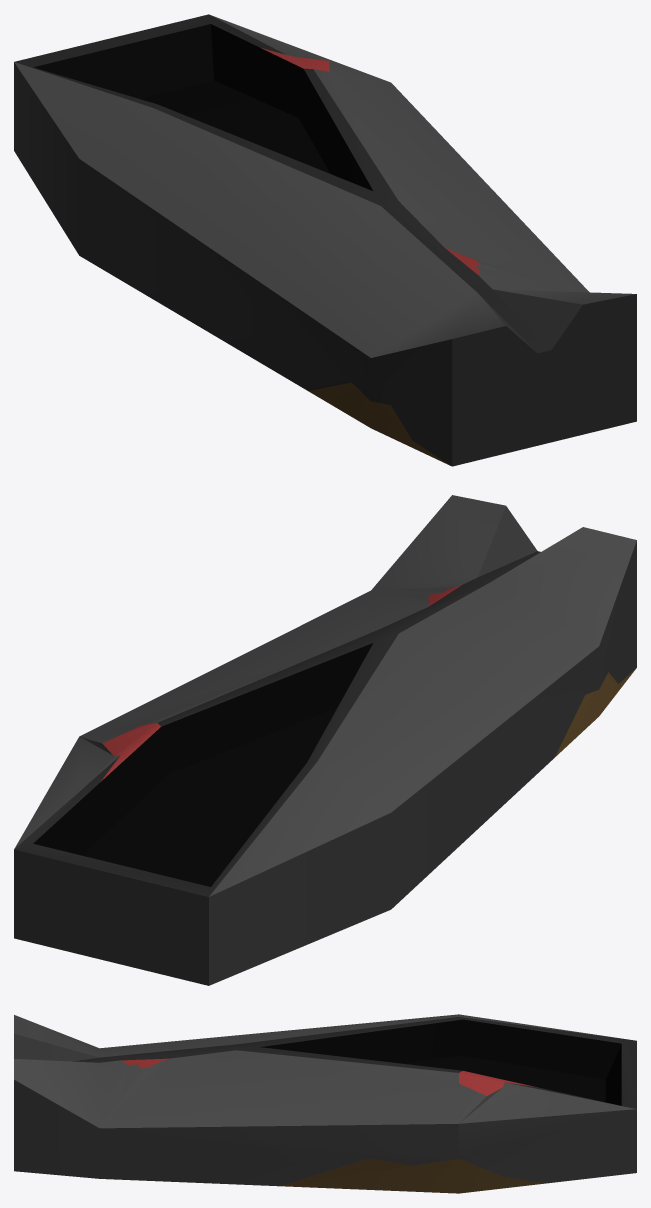
Rendered from SA_Prop_BodyBag_03.glb.
The picture shows the model from 3 angles, top to bottom: view 1: azimuth 30°, elevation 25°; view 2: azimuth 150°, elevation 25°; view 3: azimuth 270°, elevation 25°; orthographic projection. The views are drawn at different scales.
Parts seen in each view (by area): view 1: SA_Prop_BodyBag_03; view 2: SA_Prop_BodyBag_03; view 3: SA_Prop_BodyBag_03.
Part boxes in pixels (bbox=[...]): SA_Prop_BodyBag_03: bbox=[14, 14, 636, 466]; SA_Prop_BodyBag_03: bbox=[14, 495, 636, 985]; SA_Prop_BodyBag_03: bbox=[14, 1014, 636, 1193].
Size of the model in its own units: 0.5468 by 0.2178 by 1.31.
Materials: 1 (1 with a texture image).
